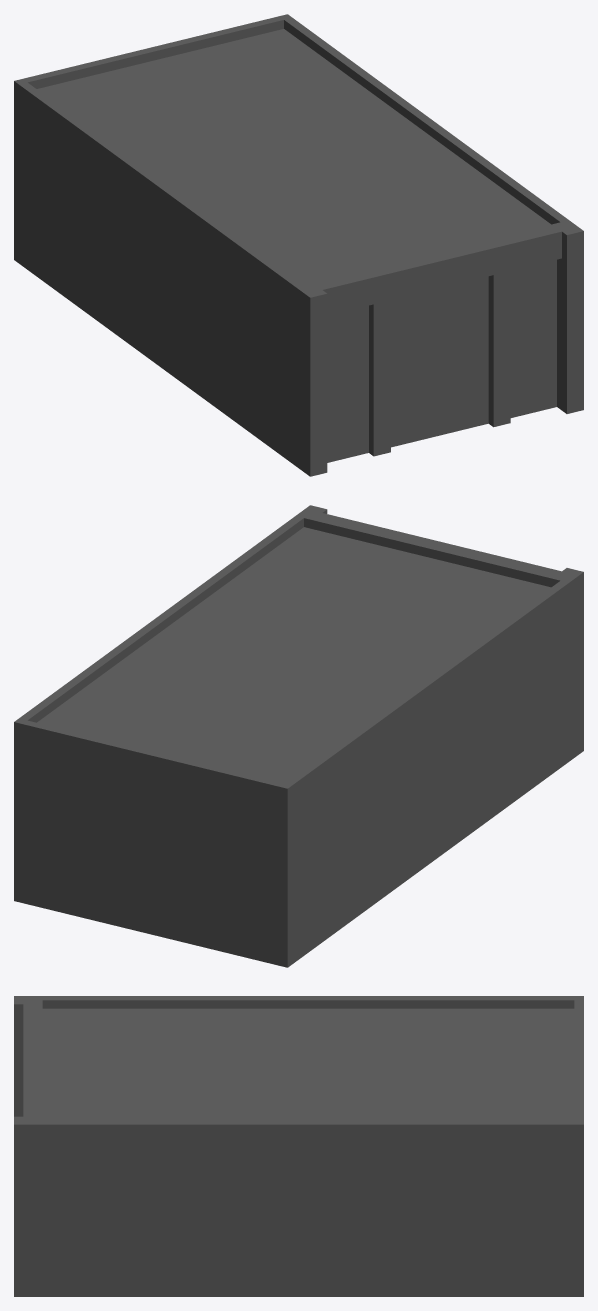
The model's file is bld_story05a.obj.
The picture shows the model from 3 angles, top to bottom: view 1: azimuth 30°, elevation 25°; view 2: azimuth 150°, elevation 25°; view 3: azimuth 270°, elevation 25°; orthographic projection. The views are drawn at different scales.
Size of the model in its own units: 32 by 20 by 60.
